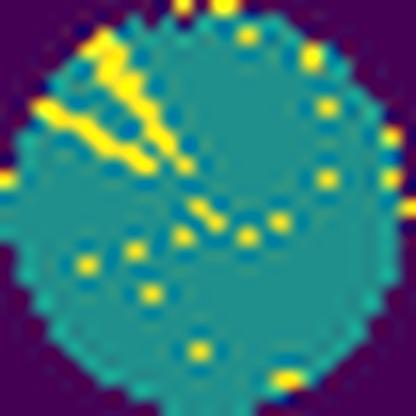Scratch: (75, 24, 201, 180), (31, 98, 157, 181)
